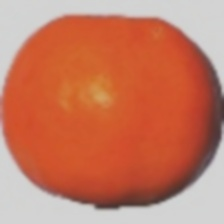tangerine: (26, 35, 169, 199)
